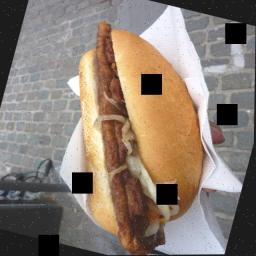hotdog: (34, 18, 234, 256)
